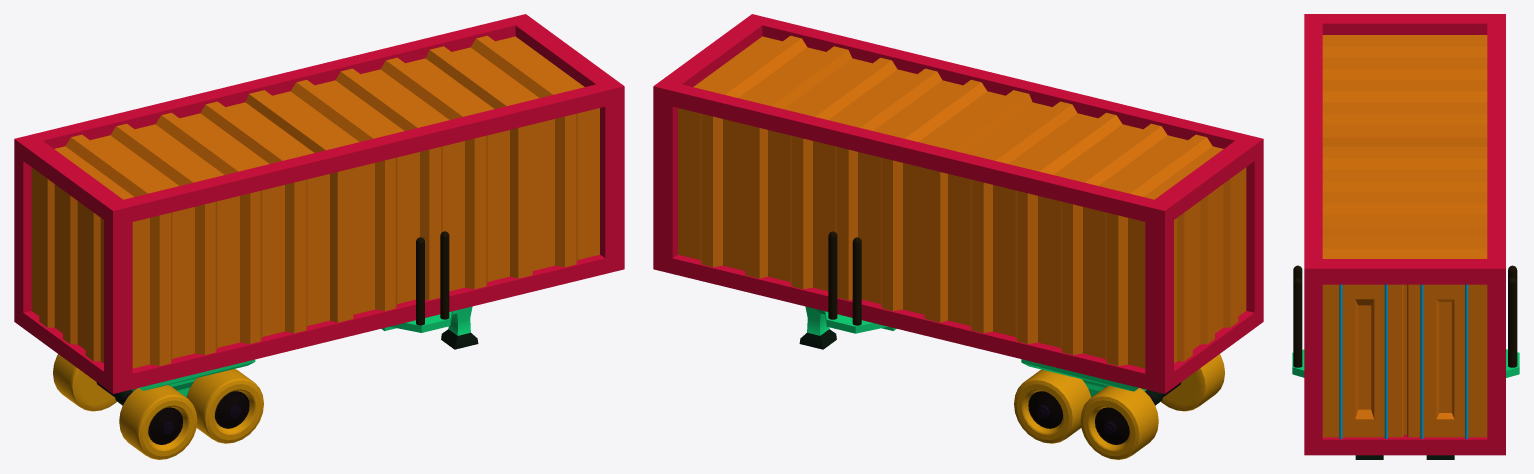
The model's file is ShippingContainer.fbx.
The picture shows the model from 3 angles, left to right: view 1: azimuth 30°, elevation 25°; view 2: azimuth 150°, elevation 25°; view 3: azimuth 270°, elevation 25°; orthographic projection. The views are drawn at different scales.
Visible parts, largest first — view 1: Container; view 2: Container; view 3: Container.
Boxes of the visible parts, <box> form: Container: <box>14,14,624,459</box>; Container: <box>653,14,1263,459</box>; Container: <box>1292,14,1519,459</box>.
Size of the model in its own units: 10.16 by 5.1 by 3.84.
